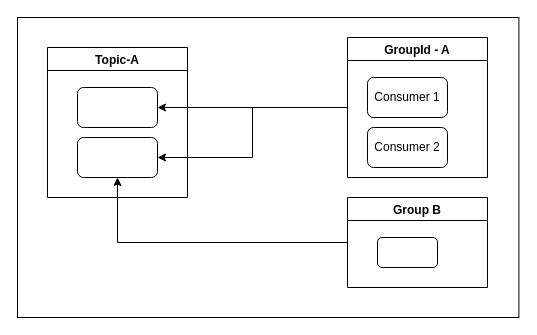
Image size: 537x335. Some labels were removed from this diagram. The centre of each missing label's shape, as x and y in pixels:
"E-Mail" goes at point (407, 252).
"Patition - 0" goes at point (117, 107).
"Patition - 1" goes at point (117, 157).
